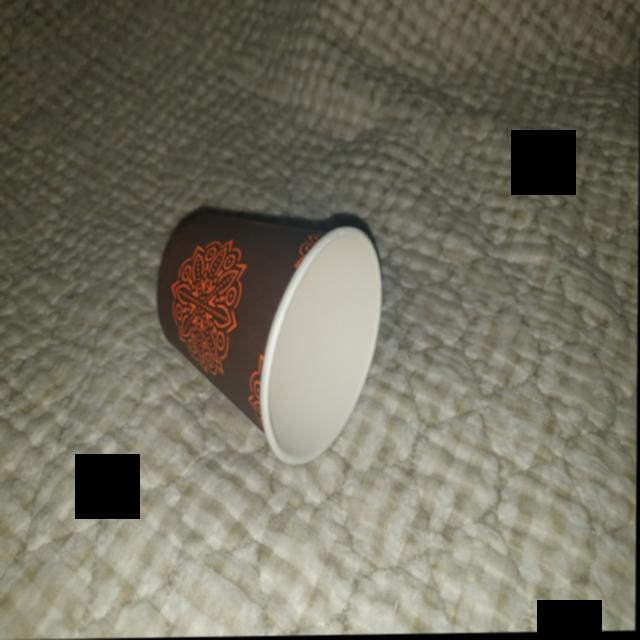cups: (154, 195, 391, 482)
